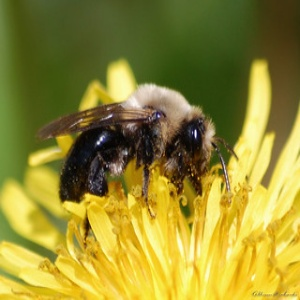bee: (39, 84, 237, 243)
